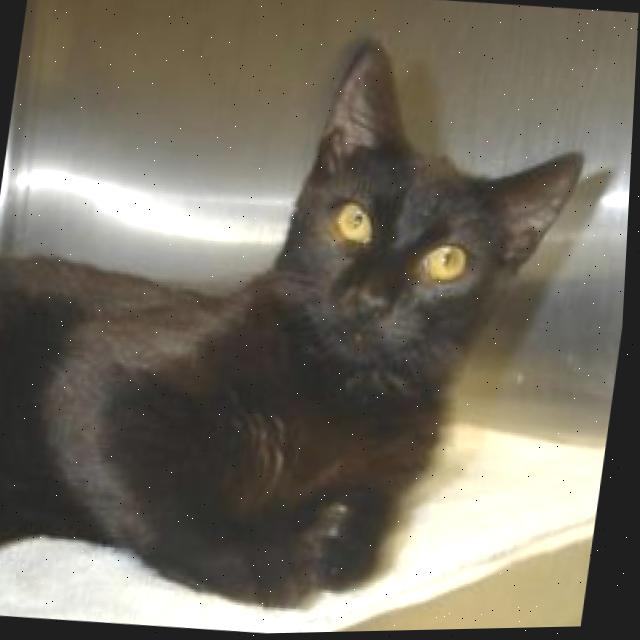Bombay: (0, 0, 612, 640)
